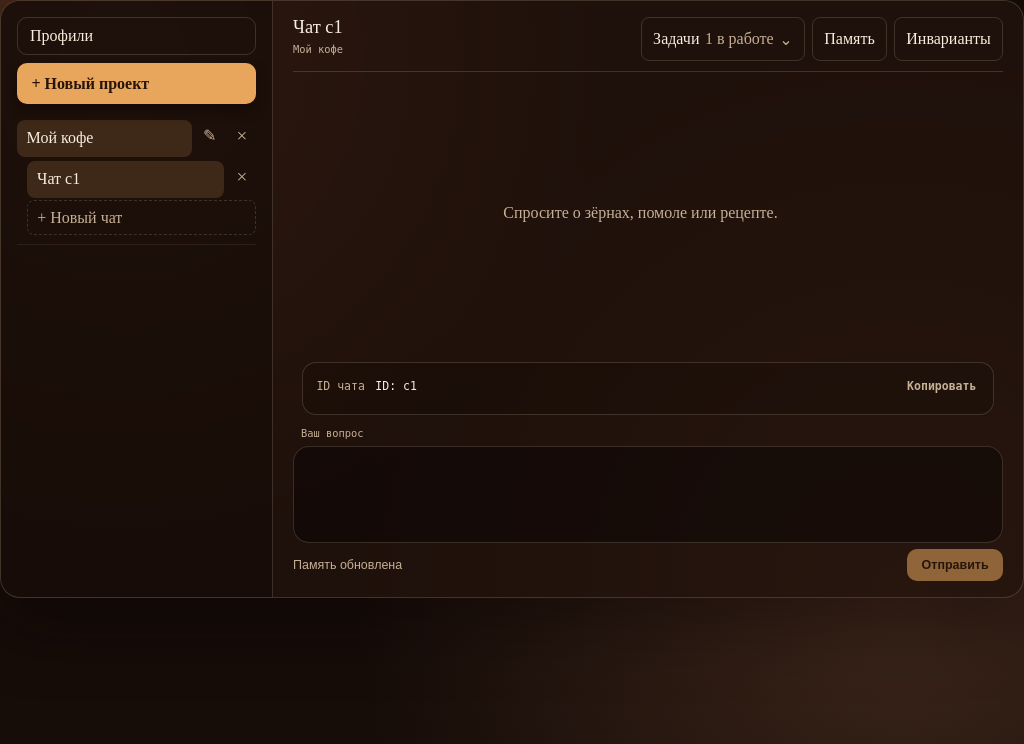
it: BaristaWorkspace › сворачивает детали задач и не показывает управление в карточке
Check: the header "Чат c1" is shown, box x1=293 y1=17 x2=1003 y2=72
Check: the text "Проверить помол" is not shown
Click the button "Задачи 1 в работе ⌄". click: x=723, y=39
box: x1=641 y1=17 x2=805 y2=61
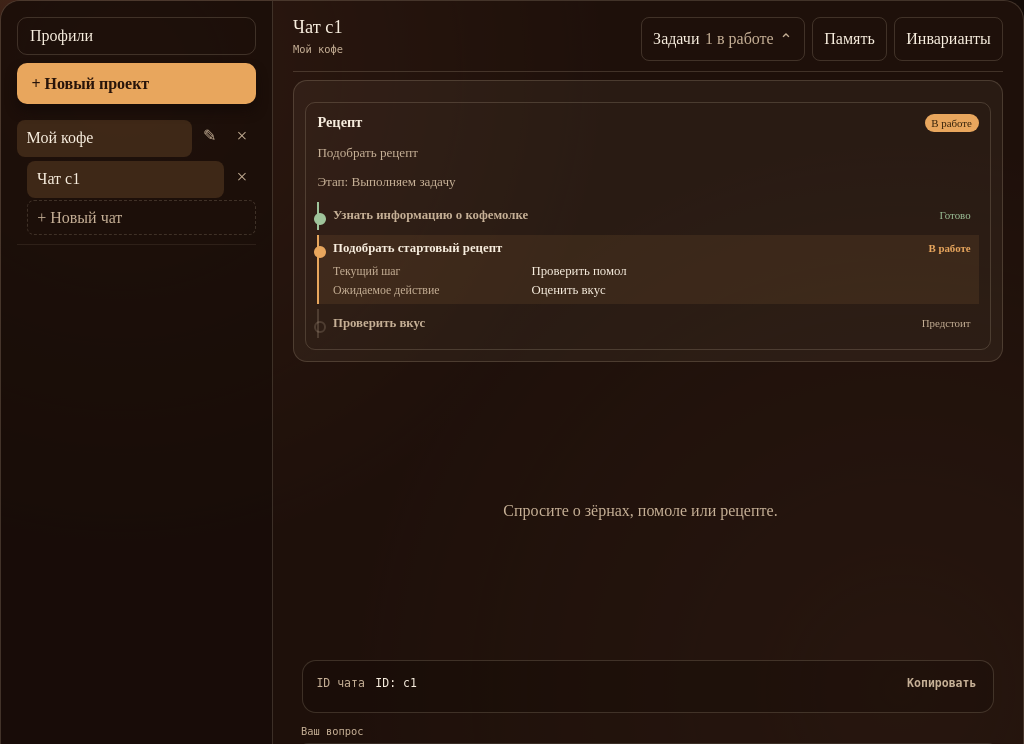
Check: the button "Задачи 1 в работе ⌃" is expanded, box x1=641 y1=17 x2=805 y2=61
Check: the element named "Состояние задач" is shown, box x1=293 y1=80 x2=1003 y2=362
Check: the text "Проверить помол" is shown, box x1=532 y1=264 x2=627 y2=278
